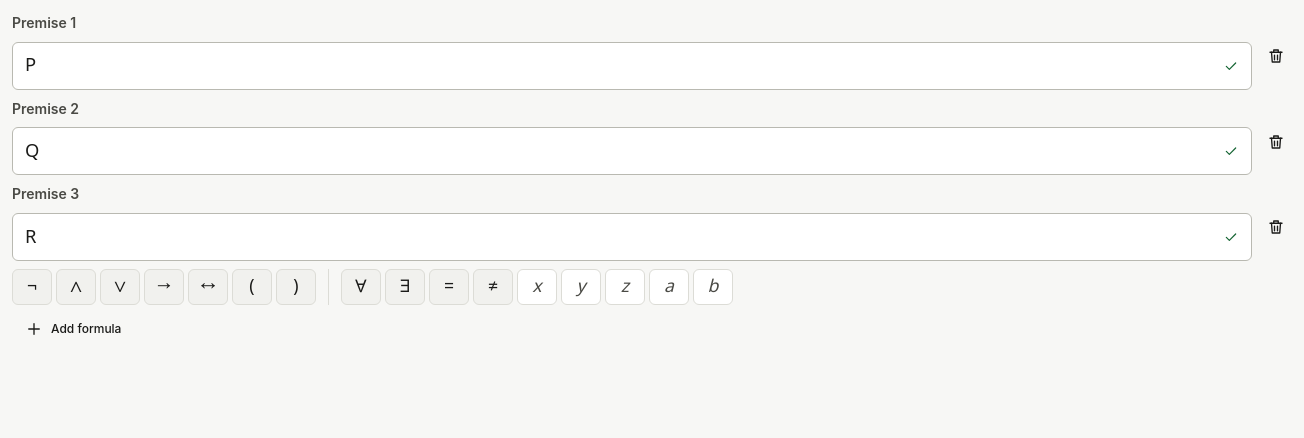
typing a comma splits into a new row and keeps typing there
Step 1. Click the field labelled "Premise 1" → (618, 66), box [13,43,1223,89]
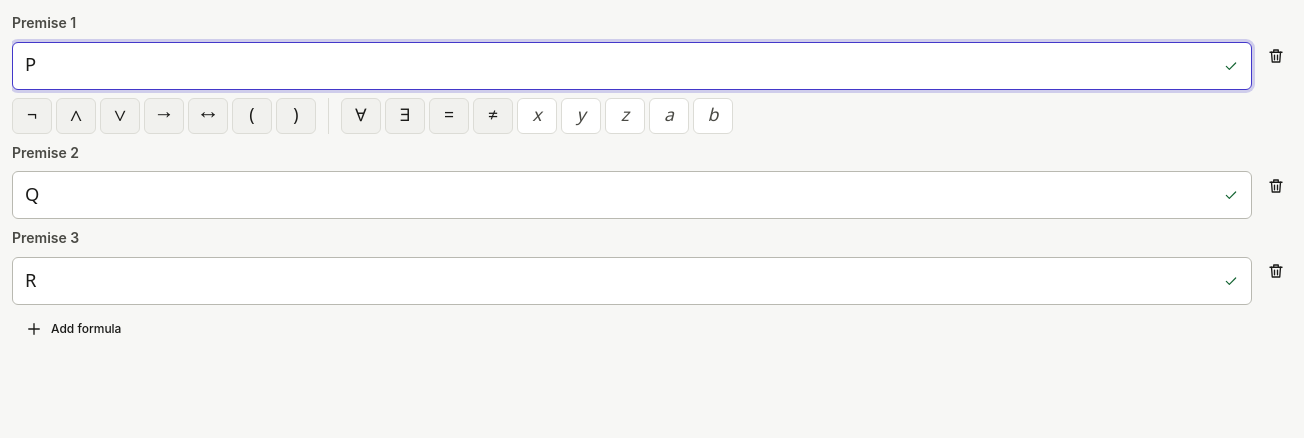
Step 2. Type keys "{End}, S"
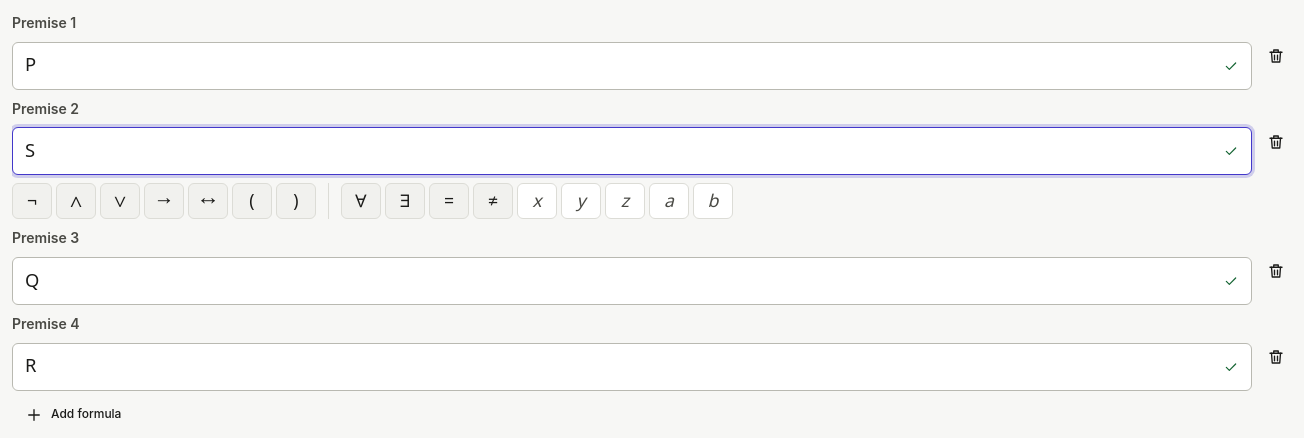
Expected: the field labelled "Premise 2" holds "S", [13,128,1223,174]
